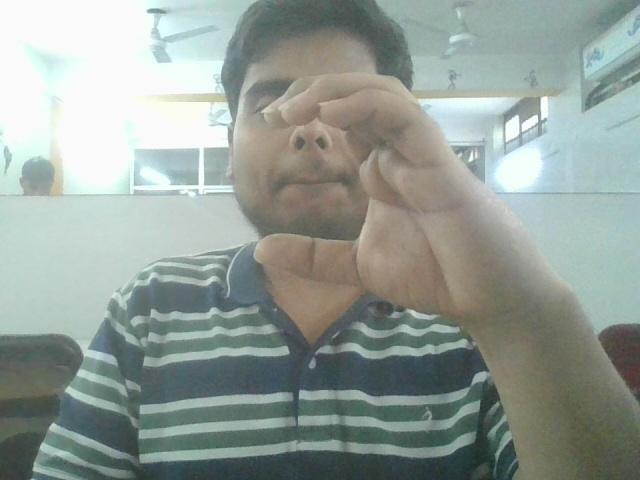No: (212, 65, 580, 336)
